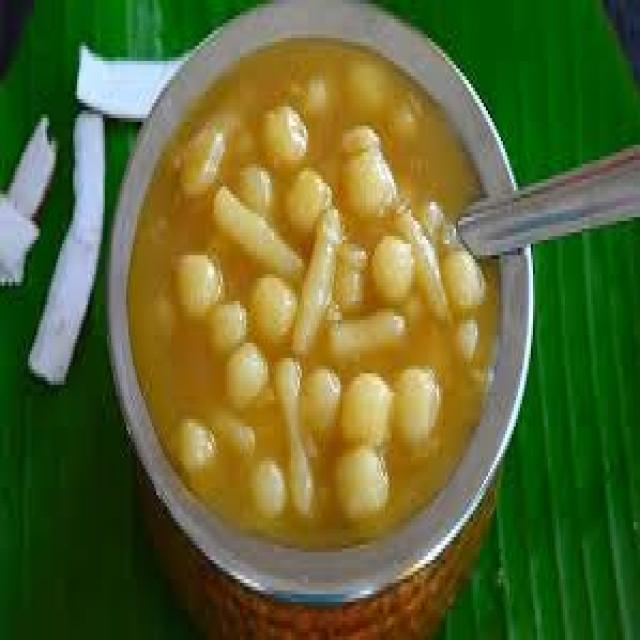paal kolukattai: (137, 59, 499, 533)
